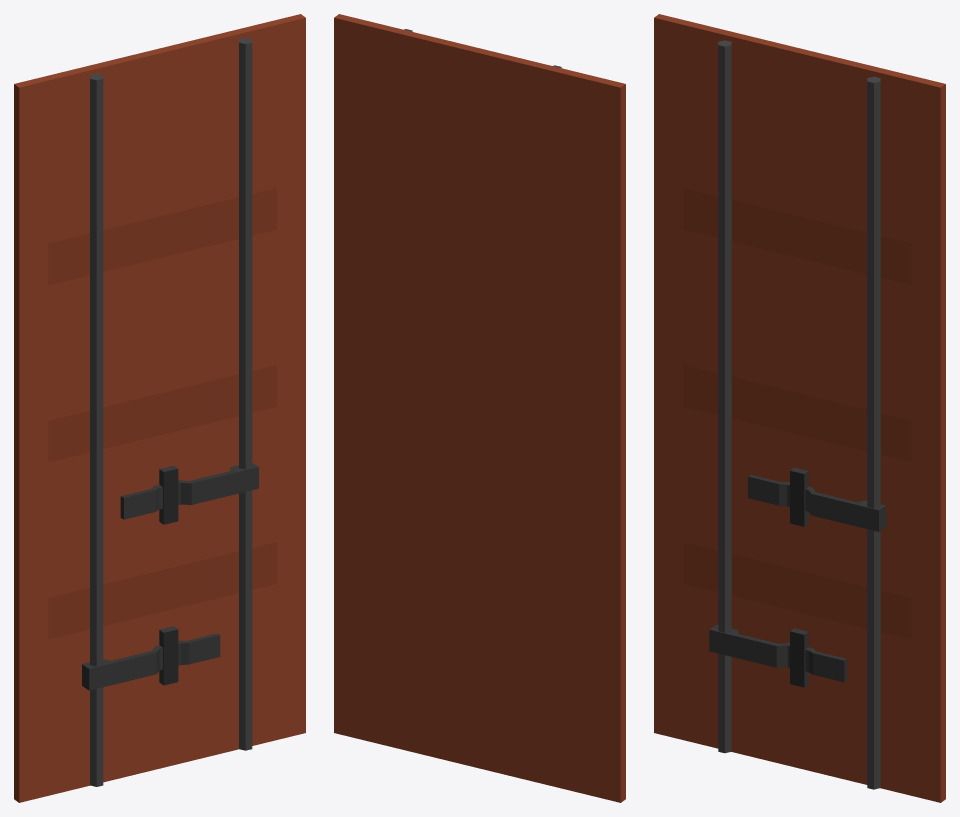
The model's file is SM_IndustrialProps_ShippingContainer_01_Door_01.fbx.
3 renders of one model, left to right at view 1: azimuth 30°, elevation 25°; view 2: azimuth 150°, elevation 25°; view 3: azimuth 330°, elevation 25°, orthographic.
Parts seen in each view (by area): view 1: SM_IndustrialProps_ShippingContainer_01_Door_01; view 2: SM_IndustrialProps_ShippingContainer_01_Door_01; view 3: SM_IndustrialProps_ShippingContainer_01_Door_01.
Boxes of the visible parts, x1,y1,x2,y2 form: SM_IndustrialProps_ShippingContainer_01_Door_01: (14, 14, 305, 802); SM_IndustrialProps_ShippingContainer_01_Door_01: (334, 14, 625, 802); SM_IndustrialProps_ShippingContainer_01_Door_01: (654, 14, 945, 802).
Bounding box in the file's own units: 1.09 × 2.6 × 0.0825.
